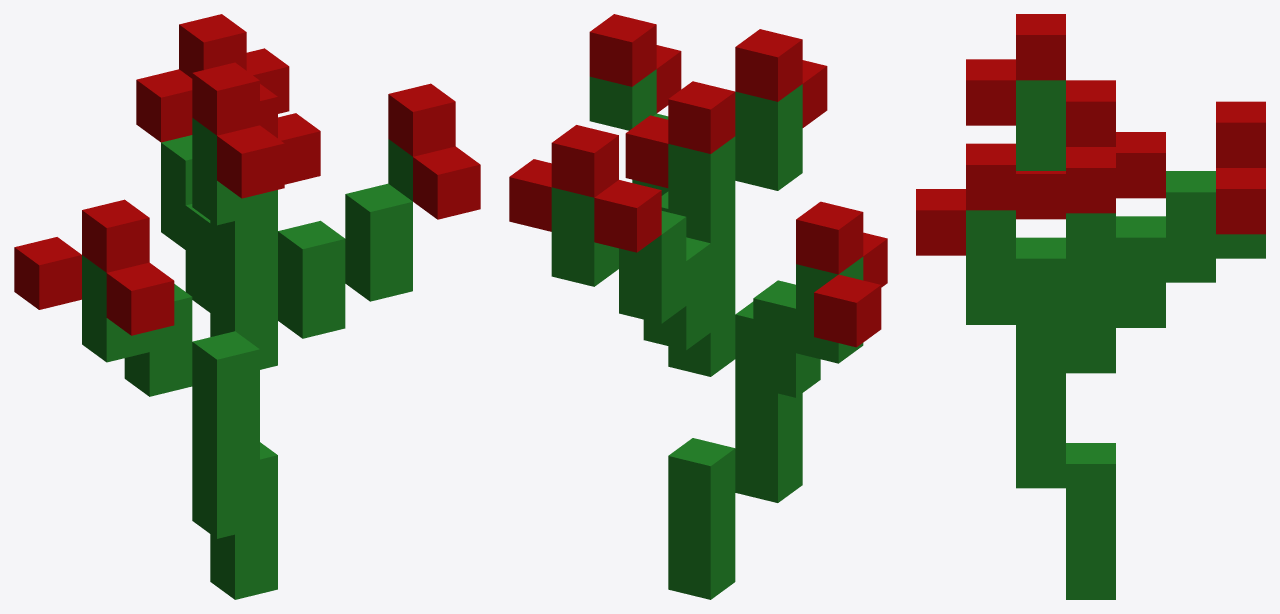
File: Flower04-0.obj
3 views of the same model, side by side, from view 1: azimuth 30°, elevation 25°; view 2: azimuth 150°, elevation 25°; view 3: azimuth 270°, elevation 25° (orthographic).
Size of the model in its own units: 0.8 by 1.2 by 0.7.
Materials: 1 (1 with a texture image).
